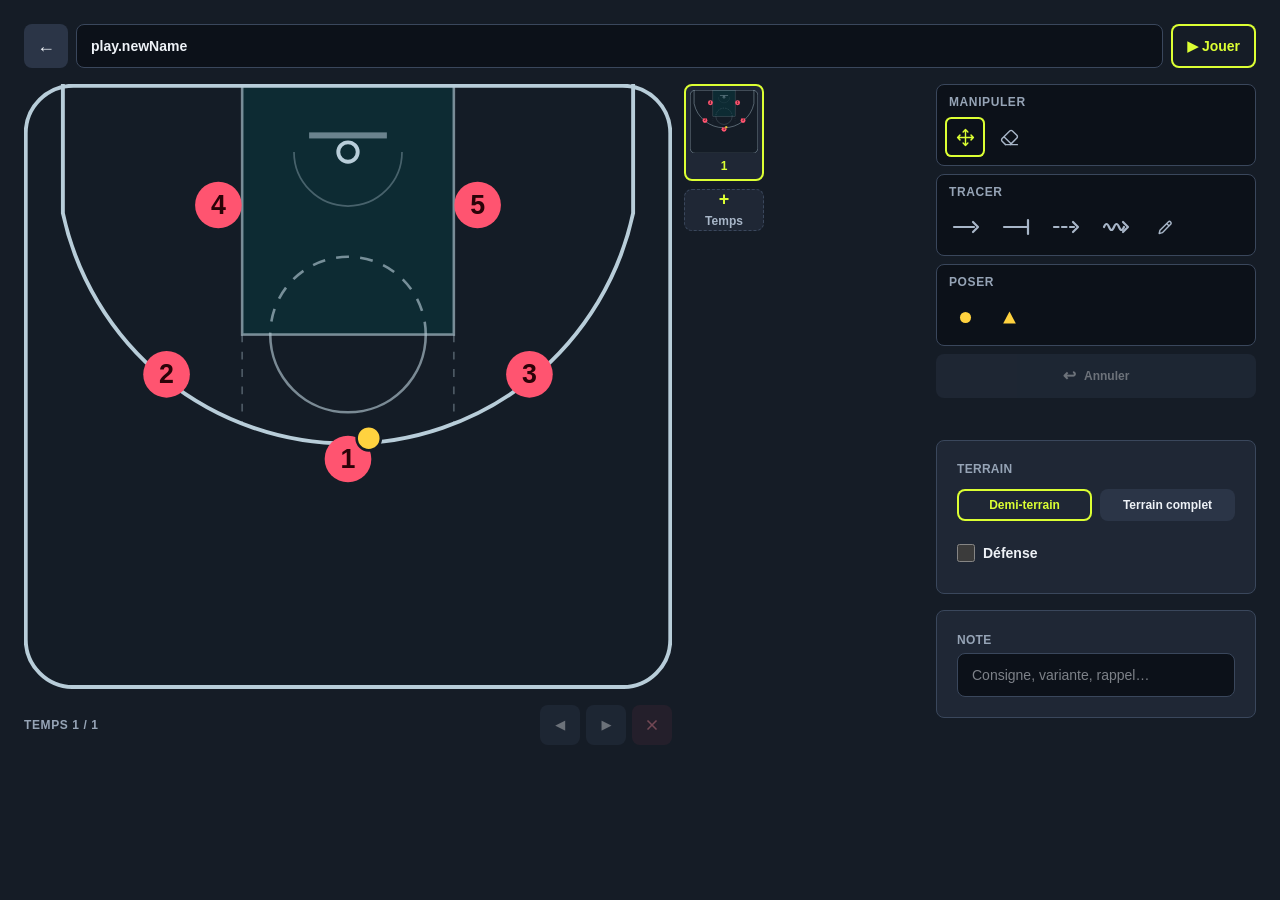
Test: SchemaEdit — reading the play without leaving the editor › turns the board over to playback, stands the tools down, and comes back
The width and height of the screenshot is (1280, 900).
Click the button "▶ Jouer" at (1214, 46), box x1=1171 y1=24 x2=1256 y2=68
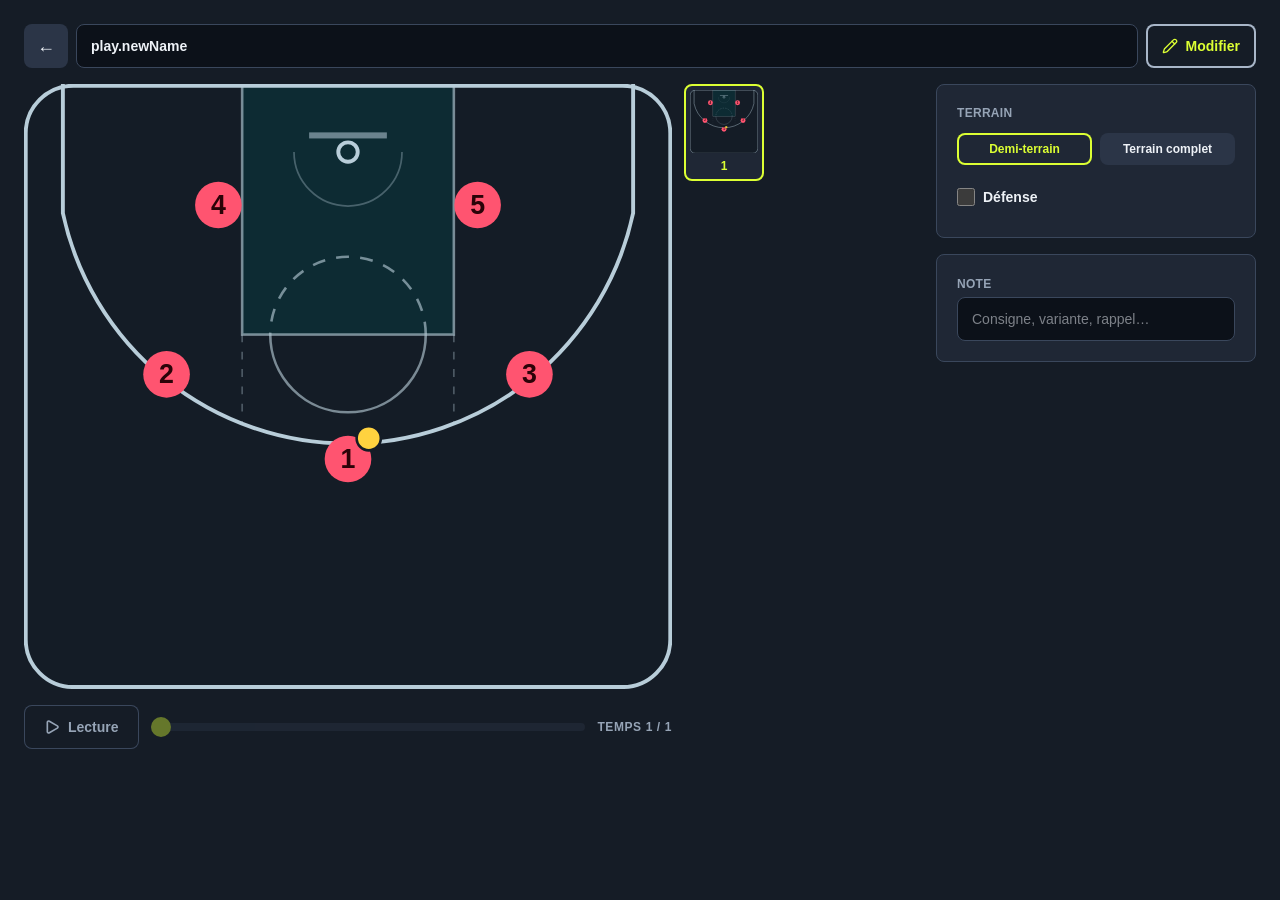
expect the picture named "tableau tactique" is shown: met, box x1=24 y1=84 x2=672 y2=689
expect the text "Tracer" is gone: met
expect the button "Lecture" is shown: met, box x1=24 y1=705 x2=139 y2=749
Click the button "Modifier" at (1201, 46), box x1=1146 y1=24 x2=1256 y2=68
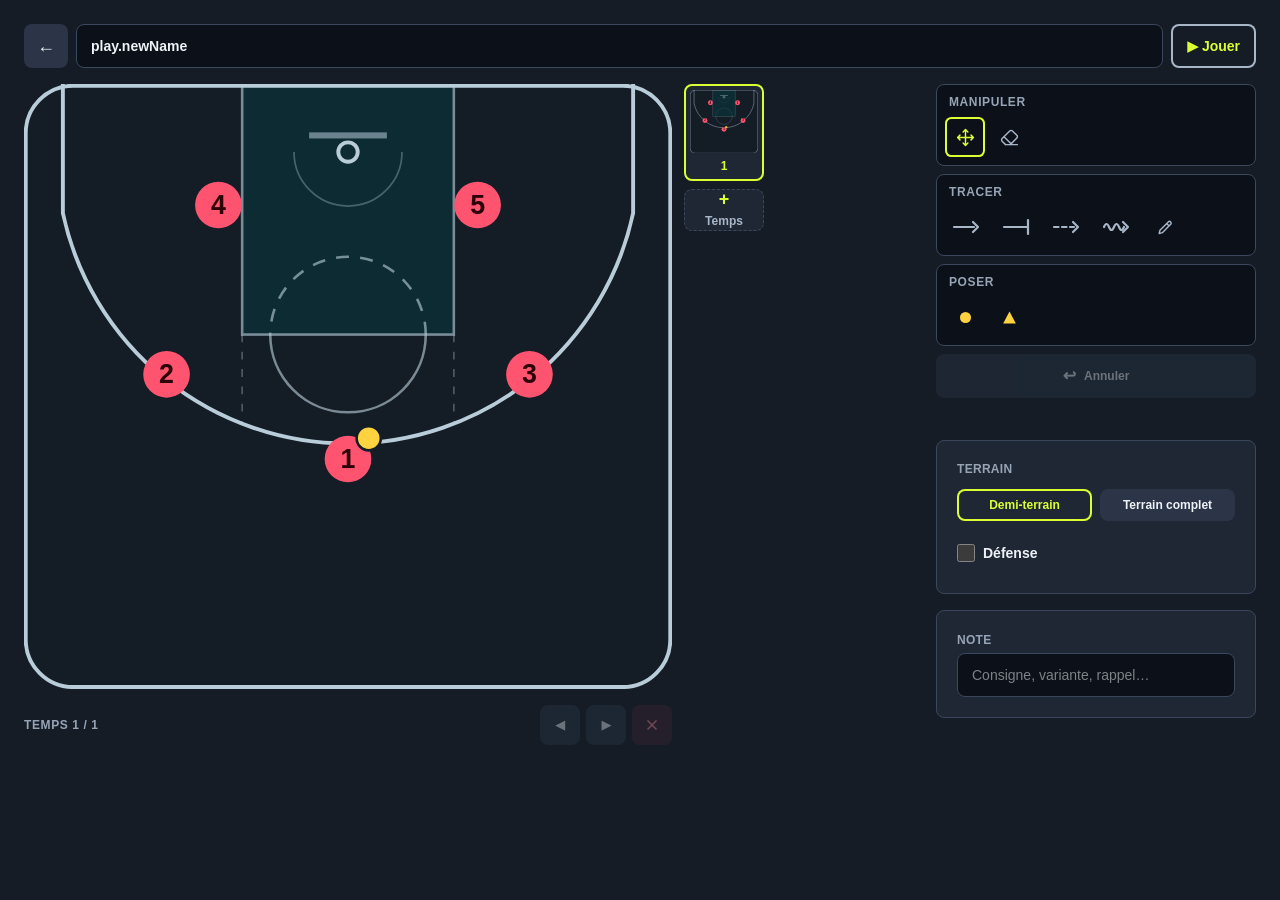
expect the element "Tracer" is shown: met, box x1=936 y1=174 x2=1256 y2=256
expect the button "Lecture" is gone: met
